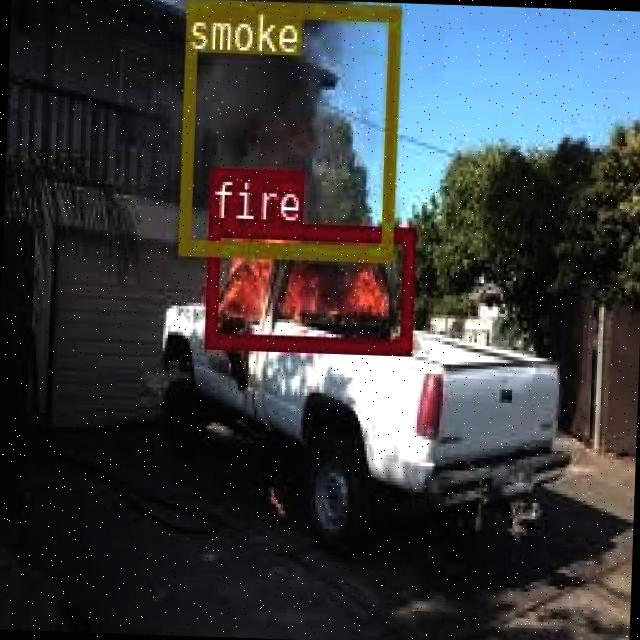fire: (202, 218, 412, 350)
smoke: (176, 0, 397, 259)
